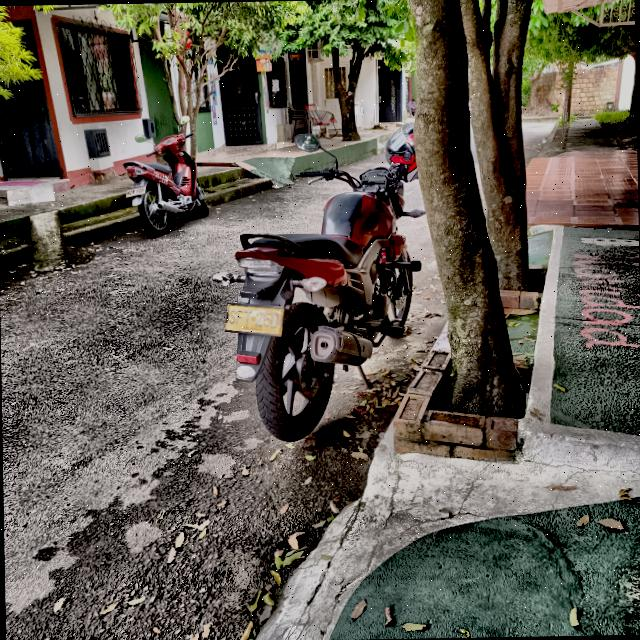plate: (224, 303, 282, 336)
